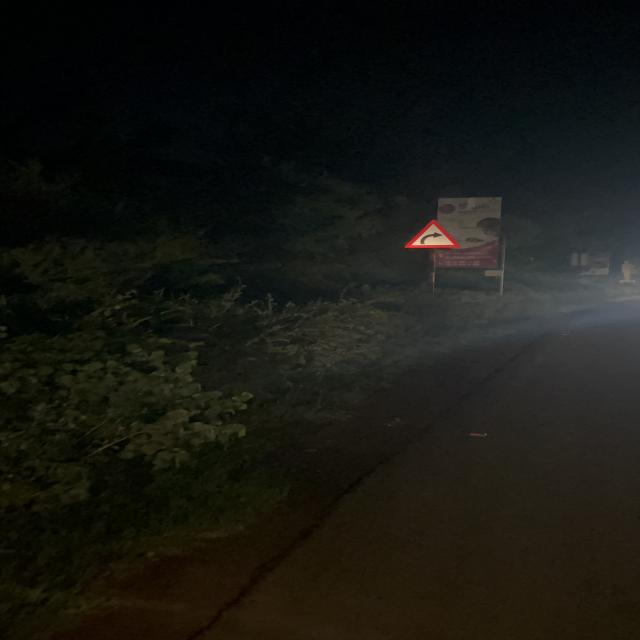Righthand_curve: (404, 219, 458, 248)
